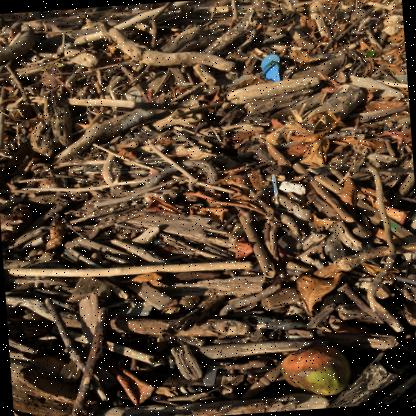Other plastic bottle: (261, 54, 281, 82), (272, 175, 279, 208)
Styrofoam piece: (279, 181, 306, 195)
